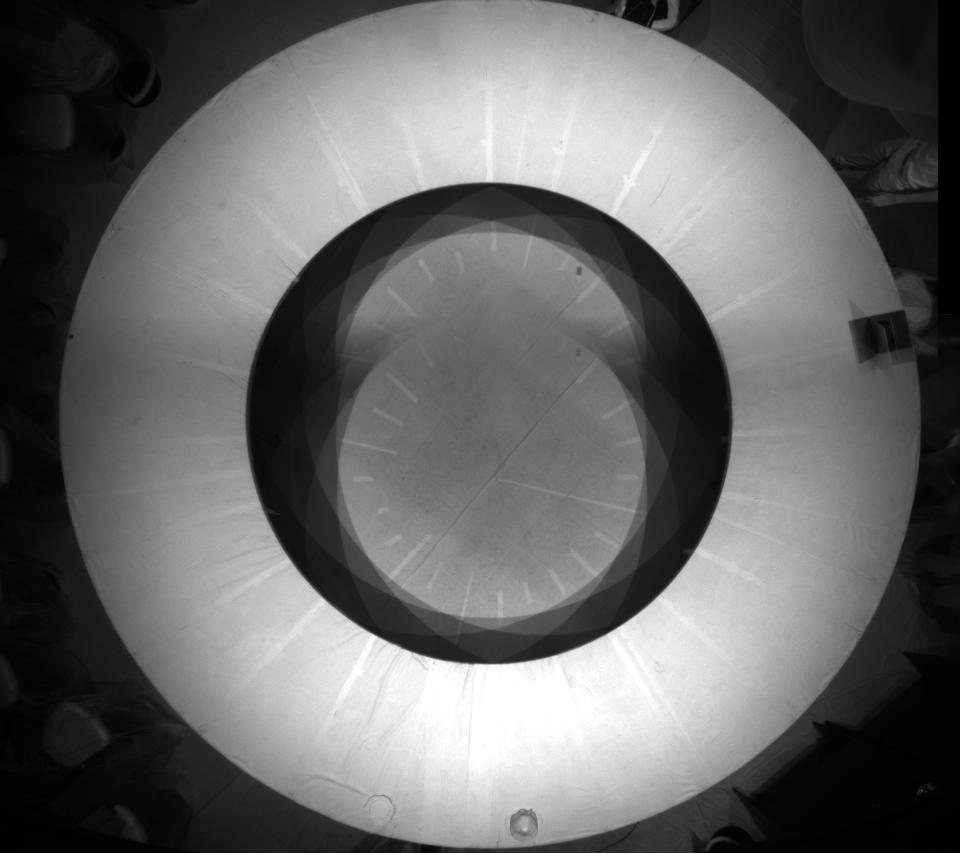Plate: (360, 791, 398, 827)
